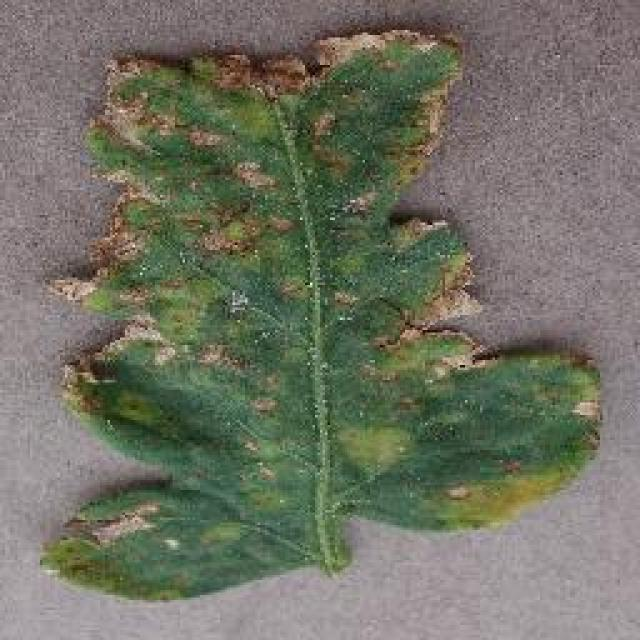Tomato___Bacterial_spot: (26, 28, 616, 613)
